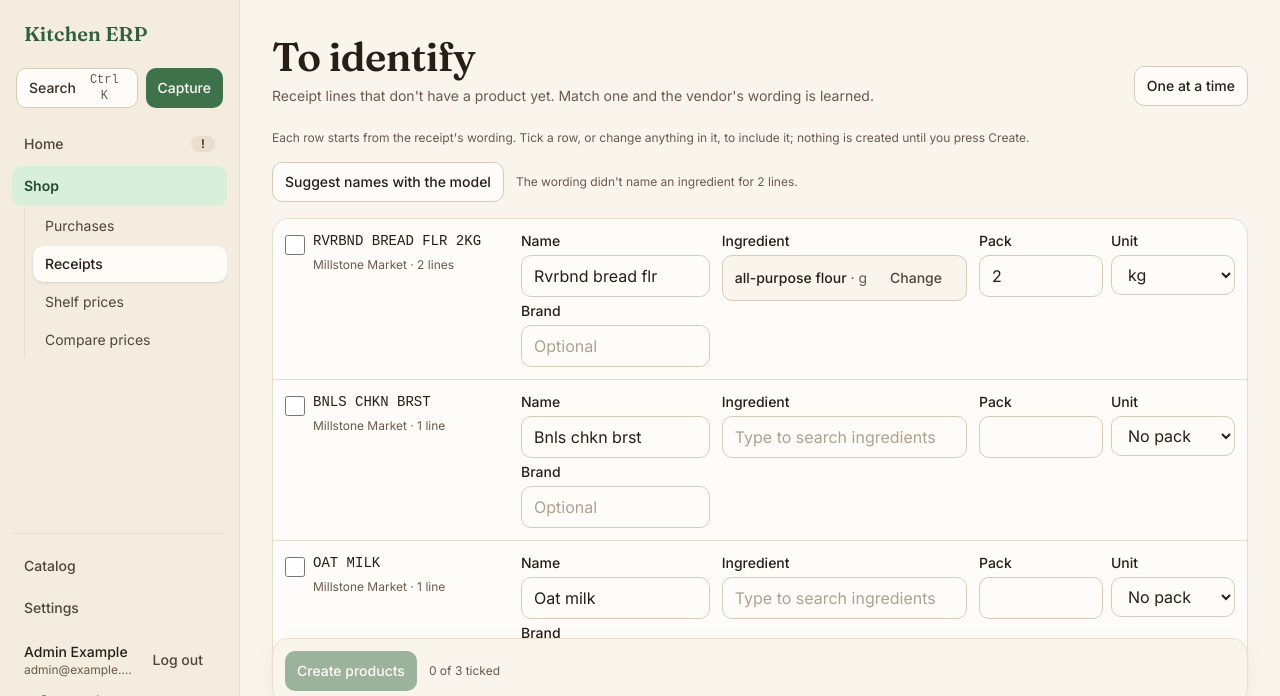
it: naming new products in bulk › offers the existing product with the same name and ingredient instead of a second one (issue 179)
This screenshot has width=1280, height=696.
Click the checkbox labelled "RVRBND BREAD FLR 2KG Millstone Market · 2 lines".
click(295, 245)  # box [285,235,305,255]
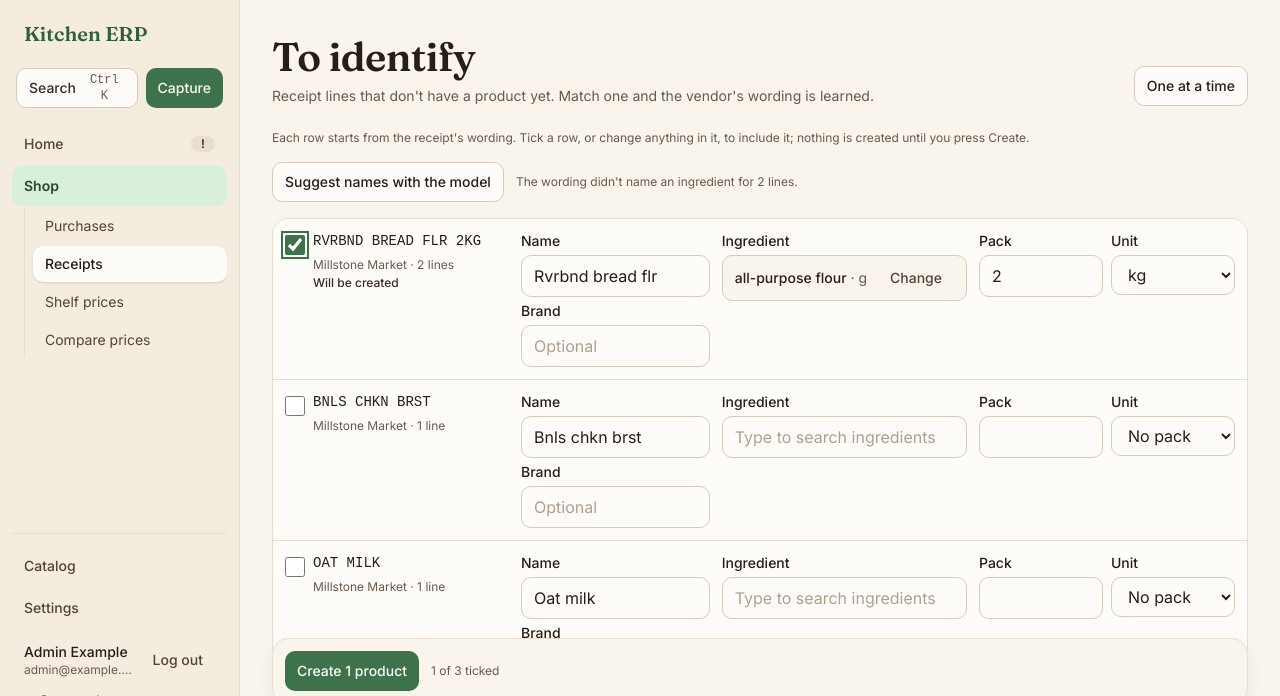
Click the button "Create 1 product".
click(352, 671)  # box [285,651,419,691]
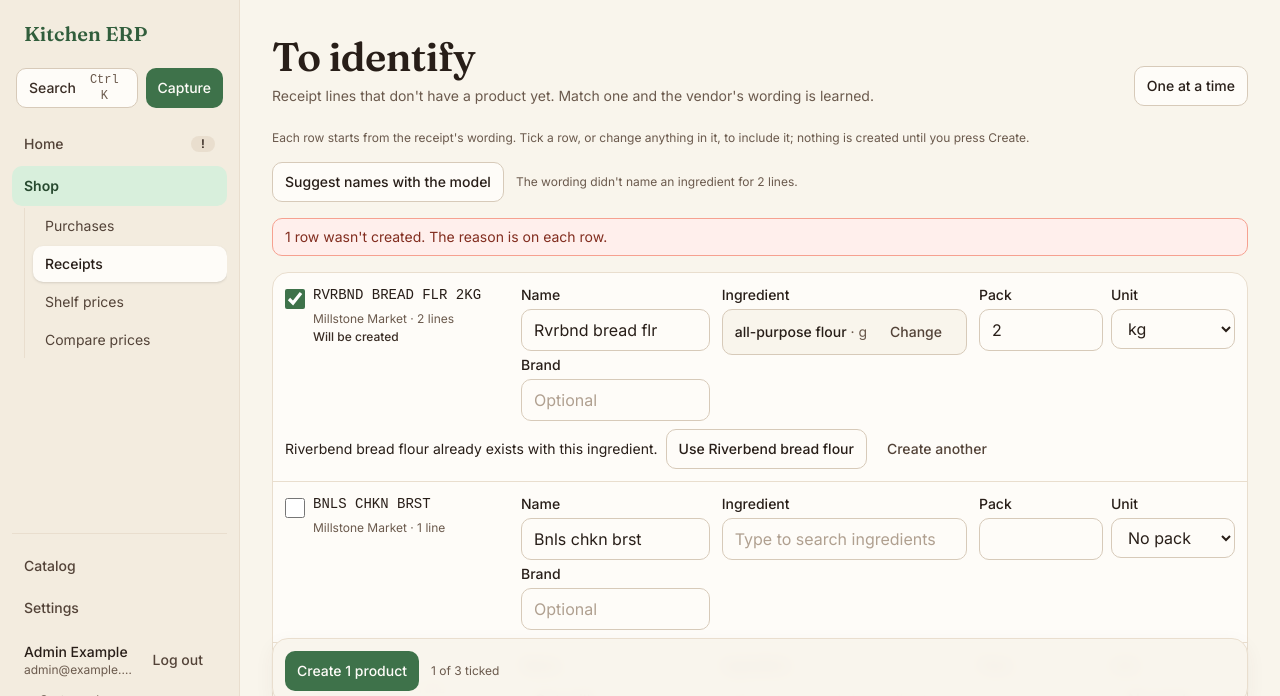
Click the button "Use Riverbend bread flour".
click(766, 449)  # box [666,429,867,469]
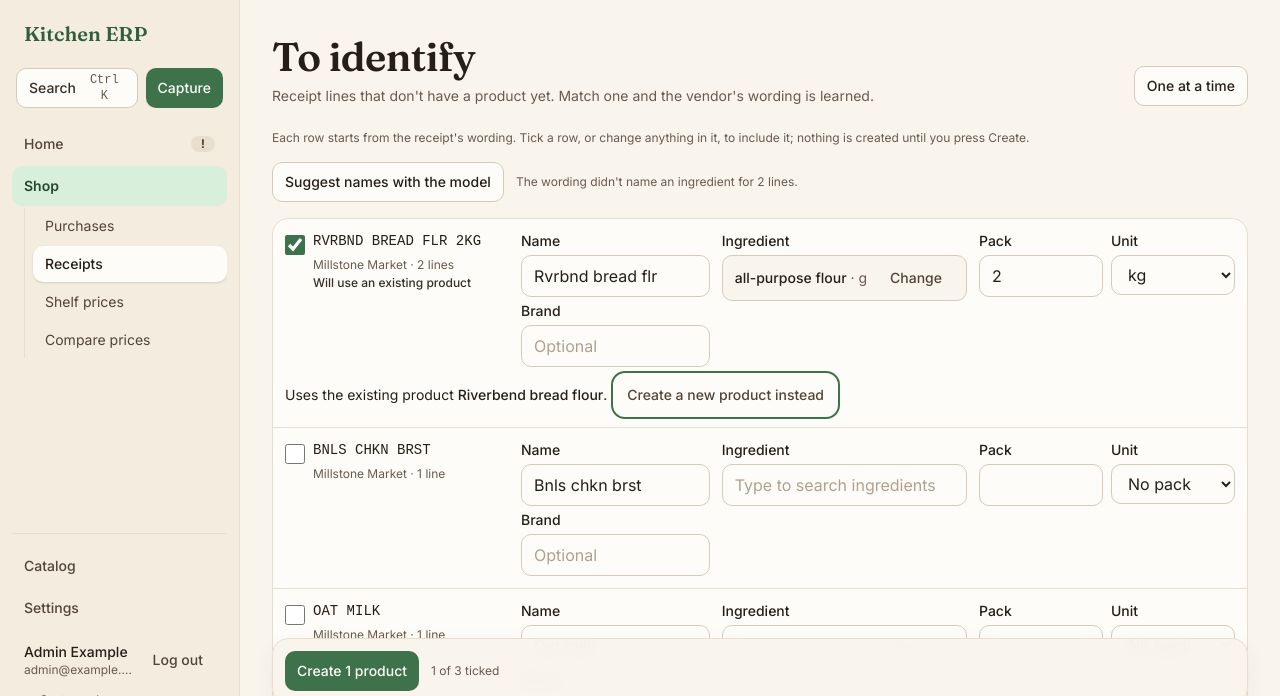
Click the button "Create 1 product".
click(352, 671)  # box [285,651,419,691]
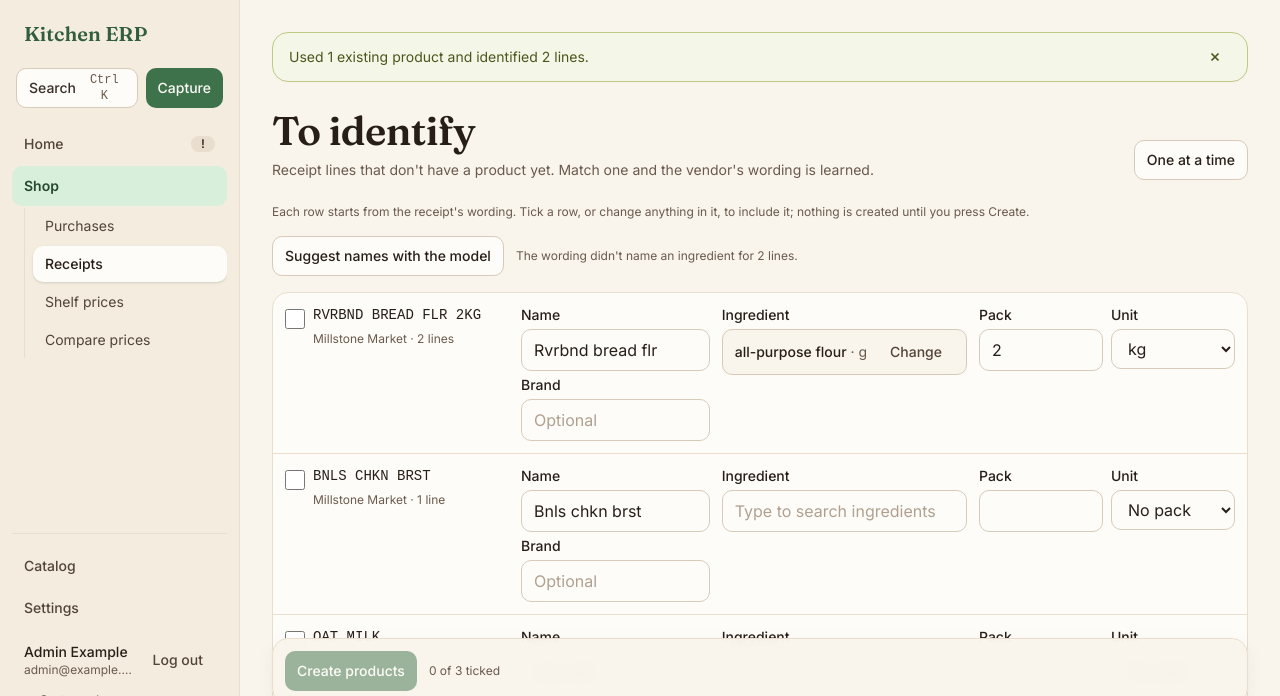
Check: the text "Used 1 existing product and identified 2 lines." is shown, box [289,47,589,67]
